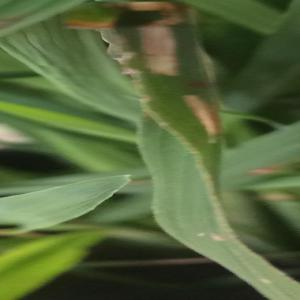Rice_Blast: (131, 17, 194, 84), (177, 86, 227, 150)
